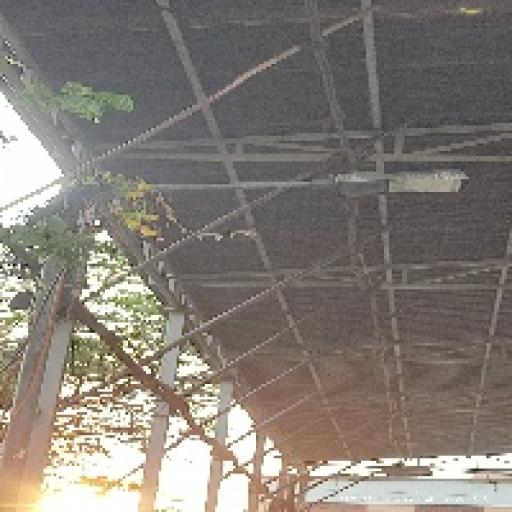Not Working: (326, 160, 472, 212)
